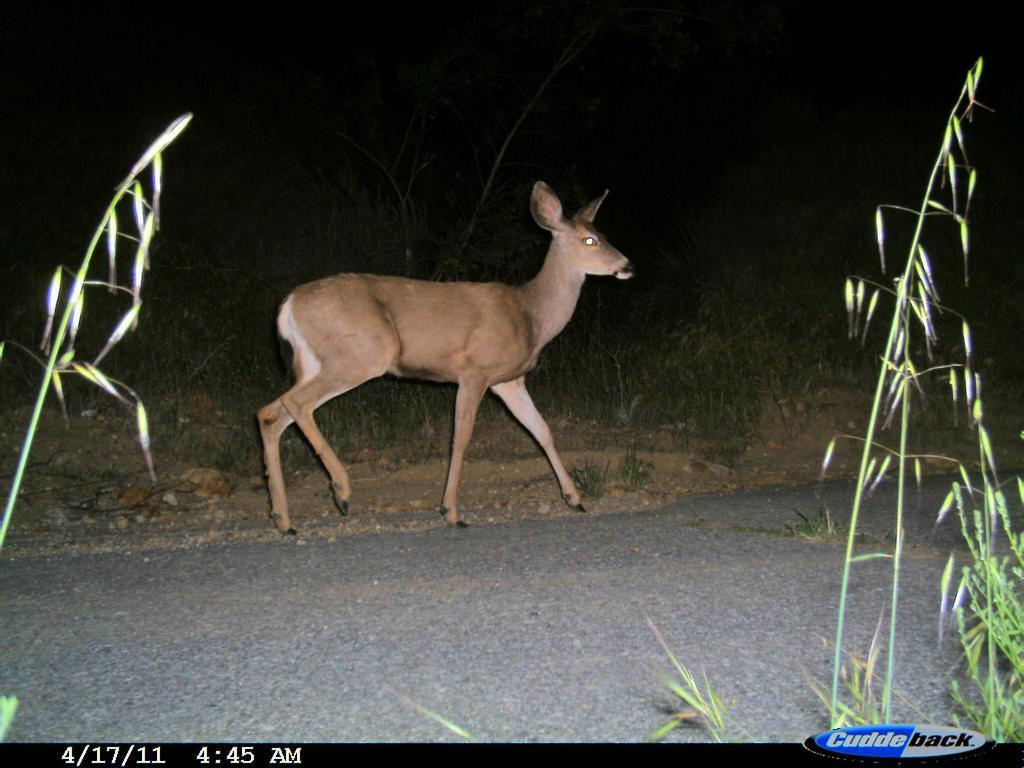deer: (254, 181, 643, 536)
